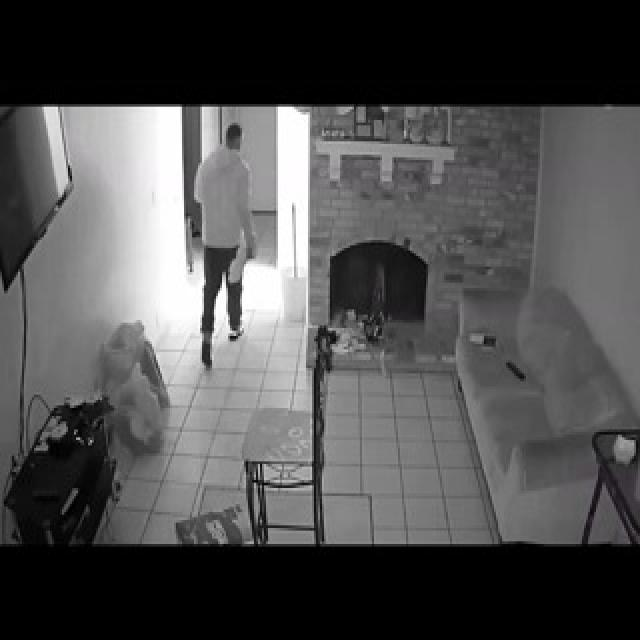thief: (213, 115, 254, 185)
